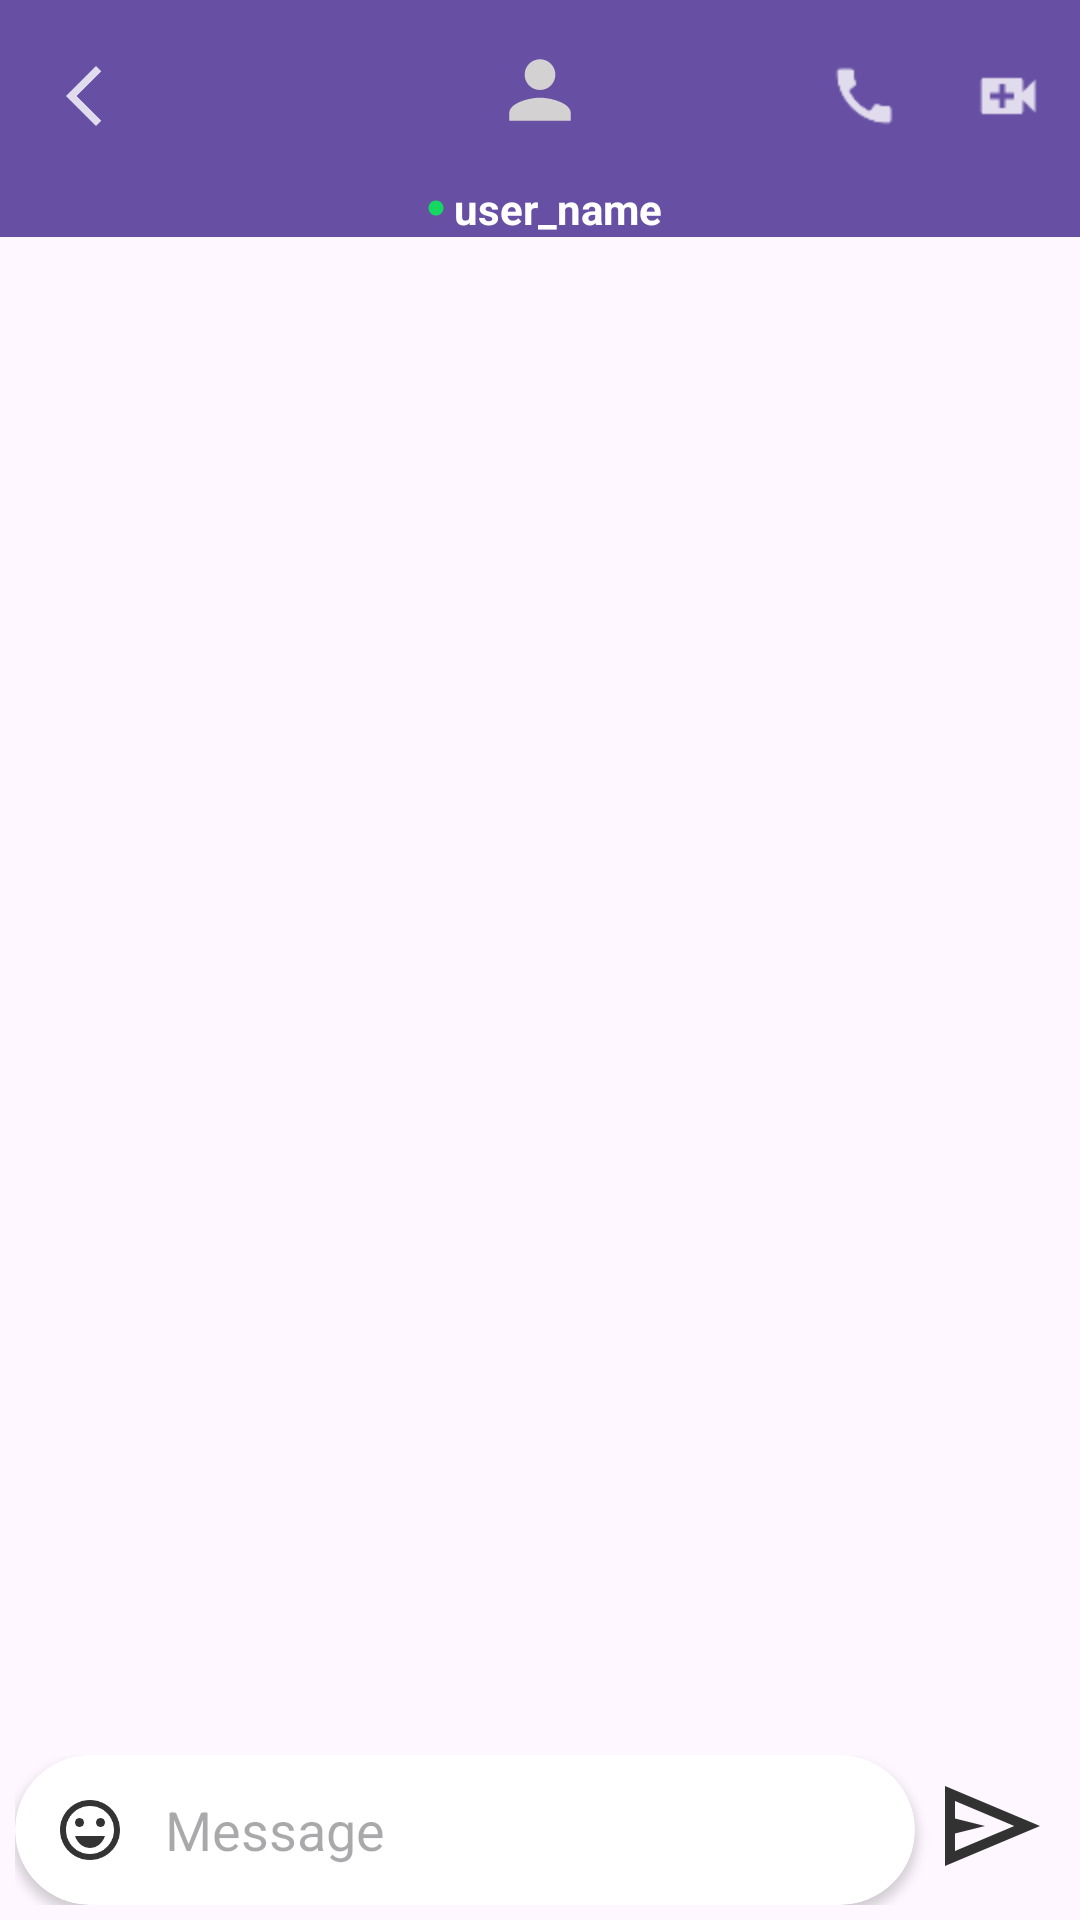

Icon bounding boxes for this 1080w x 1920h phone screenshot, format {"left": x1, "top": y1, "right": x2, "bottom": y2}:
emoji: {"left": 15, "top": 1800, "right": 120, "bottom": 1905}
send: {"left": 945, "top": 1786, "right": 1040, "bottom": 1866}
